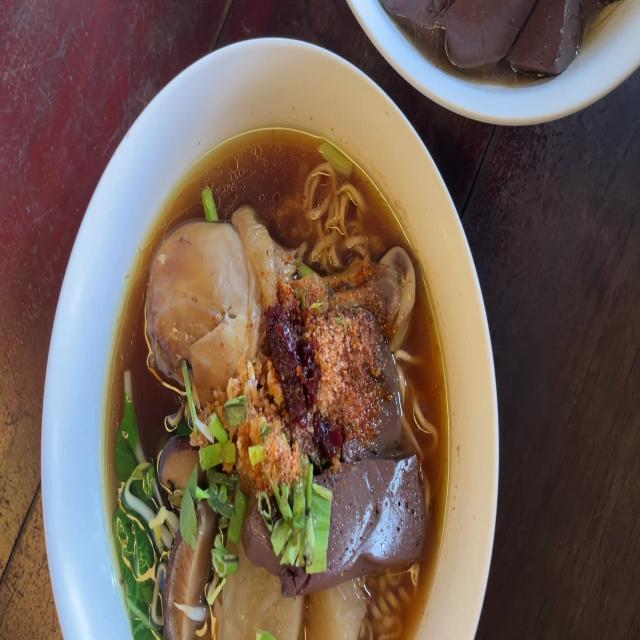noodle: (246, 472, 422, 570), (381, 0, 592, 75), (363, 322, 398, 444)
